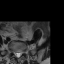CCS_normal: (17, 50, 19, 58)
LFS_normal: (22, 49, 24, 55)
LLS_normal: (19, 50, 21, 57)
RFS_normal: (13, 49, 15, 56)
RLS_normal: (15, 50, 17, 57)
